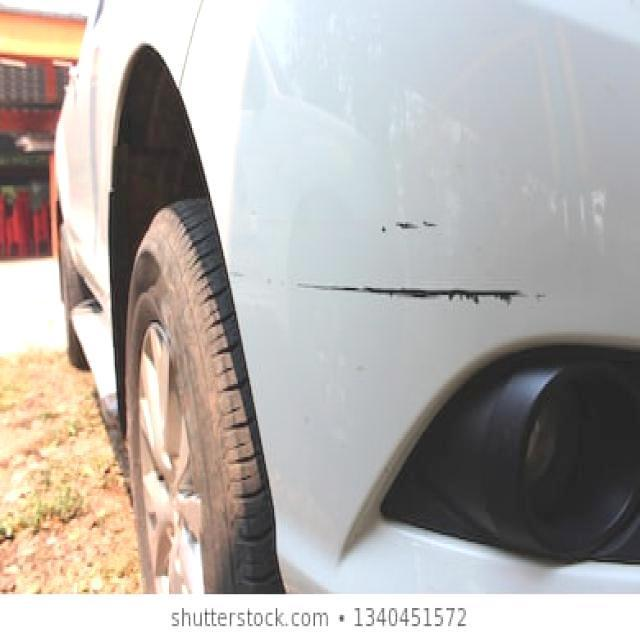minor: (379, 192, 439, 239)
moderate: (293, 268, 570, 316)
